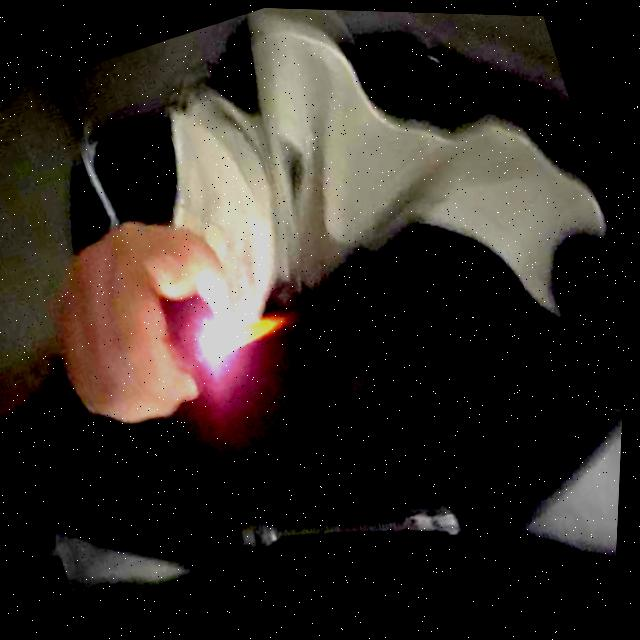Fire: (200, 301, 296, 362)
